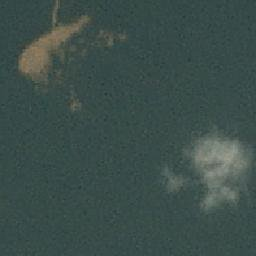cloud: (161, 129, 255, 219)
debris: (53, 5, 87, 52), (19, 40, 51, 85), (68, 84, 81, 112), (54, 54, 65, 81), (96, 32, 124, 42)
